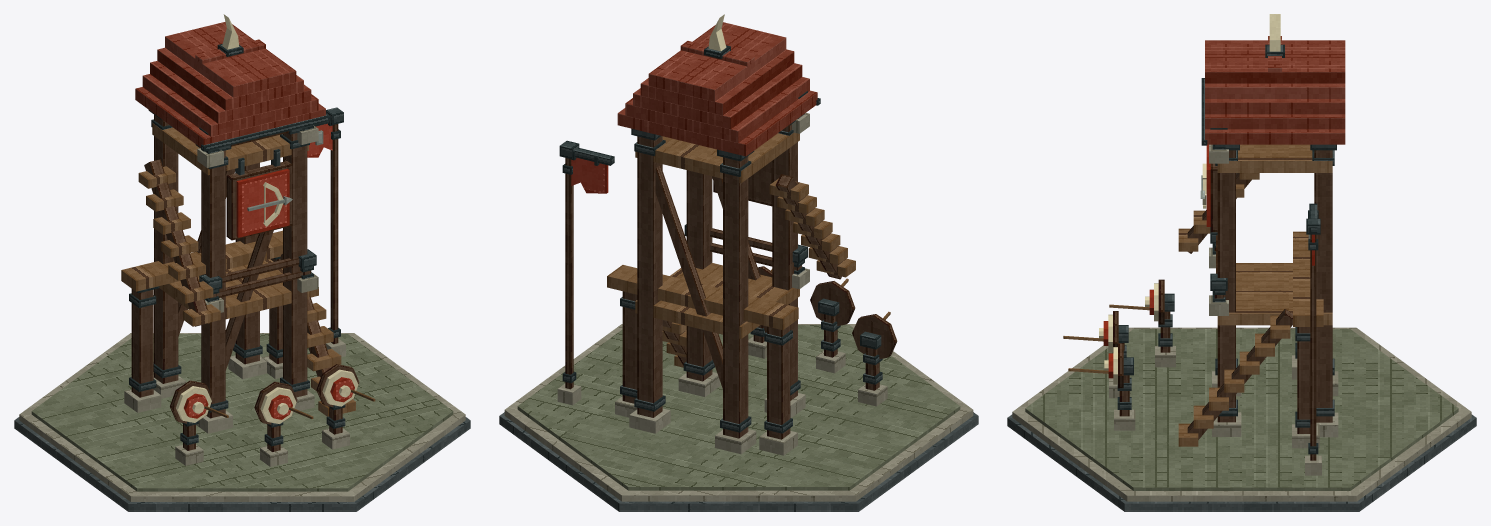
File: orc_ranger_mastery_hex_v1.glb
3 renders of one model, left to right at view 1: azimuth 30°, elevation 25°; view 2: azimuth 150°, elevation 25°; view 3: azimuth 270°, elevation 25°, orthographic. The views are drawn at different scales.
Parts seen in each view (by area): view 1: Orc_Ranger_Mastery_Hex_V1_Foundation, Orc_Ranger_Mastery_Hex_V1_Hall, Orc_Ranger_Mastery_Hex_V1_Roofs, Orc_Ranger_Mastery_Hex_V1_Courtyard, Orc_Ranger_Mastery_Hex_V1_Focus, Orc_Ranger_Mastery_Hex_V1_Faction, Orc_Ranger_Mastery_Hex_V1_Training, Orc_Ranger_Mastery_Hex_V1_Details; view 2: Orc_Ranger_Mastery_Hex_V1_Foundation, Orc_Ranger_Mastery_Hex_V1_Hall, Orc_Ranger_Mastery_Hex_V1_Roofs, Orc_Ranger_Mastery_Hex_V1_Focus, Orc_Ranger_Mastery_Hex_V1_Courtyard, Orc_Ranger_Mastery_Hex_V1_Training, Orc_Ranger_Mastery_Hex_V1_Faction, Orc_Ranger_Mastery_Hex_V1_Details; view 3: Orc_Ranger_Mastery_Hex_V1_Foundation, Orc_Ranger_Mastery_Hex_V1_Roofs, Orc_Ranger_Mastery_Hex_V1_Hall, Orc_Ranger_Mastery_Hex_V1_Focus, Orc_Ranger_Mastery_Hex_V1_Courtyard, Orc_Ranger_Mastery_Hex_V1_Training, Orc_Ranger_Mastery_Hex_V1_Faction, Orc_Ranger_Mastery_Hex_V1_Details.
Part boxes in pixels (left/top/right/bottom): Orc_Ranger_Mastery_Hex_V1_Foundation: left=14, top=333, right=470, bottom=511; Orc_Ranger_Mastery_Hex_V1_Hall: left=124, top=110, right=314, bottom=433; Orc_Ranger_Mastery_Hex_V1_Roofs: left=135, top=14, right=328, bottom=151; Orc_Ranger_Mastery_Hex_V1_Courtyard: left=138, top=125, right=355, bottom=416; Orc_Ranger_Mastery_Hex_V1_Focus: left=121, top=123, right=308, bottom=370; Orc_Ranger_Mastery_Hex_V1_Faction: left=226, top=107, right=345, bottom=356; Orc_Ranger_Mastery_Hex_V1_Training: left=170, top=364, right=375, bottom=466; Orc_Ranger_Mastery_Hex_V1_Details: left=129, top=119, right=345, bottom=446; Orc_Ranger_Mastery_Hex_V1_Foundation: left=499, top=324, right=978, bottom=511; Orc_Ranger_Mastery_Hex_V1_Hall: left=615, top=120, right=805, bottom=455; Orc_Ranger_Mastery_Hex_V1_Roofs: left=617, top=14, right=820, bottom=156; Orc_Ranger_Mastery_Hex_V1_Focus: left=607, top=132, right=799, bottom=388; Orc_Ranger_Mastery_Hex_V1_Courtyard: left=662, top=91, right=855, bottom=367; Orc_Ranger_Mastery_Hex_V1_Training: left=748, top=266, right=897, bottom=406; Orc_Ranger_Mastery_Hex_V1_Faction: left=557, top=140, right=772, bottom=405; Orc_Ranger_Mastery_Hex_V1_Details: left=562, top=113, right=882, bottom=433; Orc_Ranger_Mastery_Hex_V1_Foundation: left=1007, top=327, right=1476, bottom=511; Orc_Ranger_Mastery_Hex_V1_Roofs: left=1201, top=14, right=1345, bottom=145; Orc_Ranger_Mastery_Hex_V1_Hall: left=1212, top=144, right=1338, bottom=448; Orc_Ranger_Mastery_Hex_V1_Focus: left=1217, top=144, right=1332, bottom=326; Orc_Ranger_Mastery_Hex_V1_Courtyard: left=1178, top=128, right=1292, bottom=446; Orc_Ranger_Mastery_Hex_V1_Training: left=1063, top=279, right=1175, bottom=430; Orc_Ranger_Mastery_Hex_V1_Faction: left=1200, top=144, right=1321, bottom=475; Orc_Ranger_Mastery_Hex_V1_Details: left=1112, top=145, right=1334, bottom=454.
Size of the model in its own units: 1.59 by 1.78 by 1.84.
Materials: 1 (1 with a texture image).
